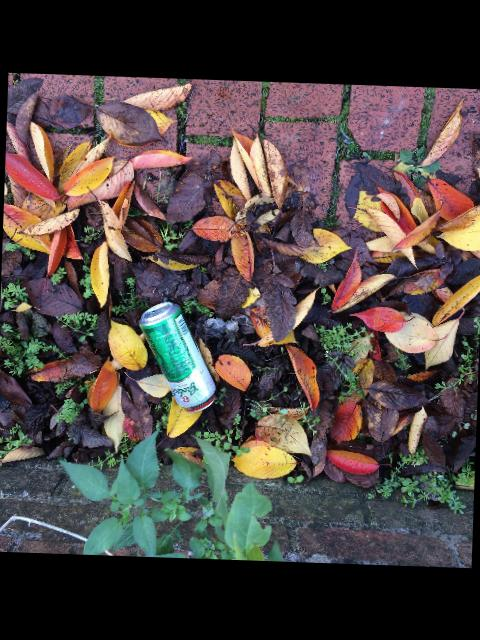metal: (140, 301, 215, 410)
